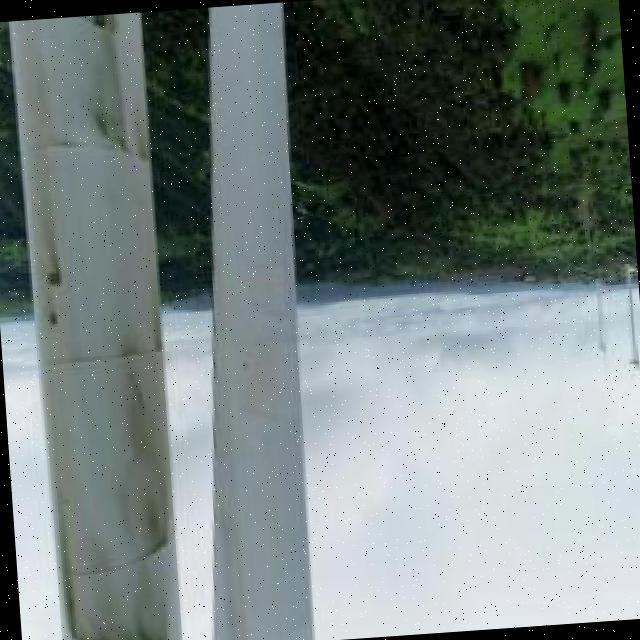Dirt: (4, 2, 185, 639)
